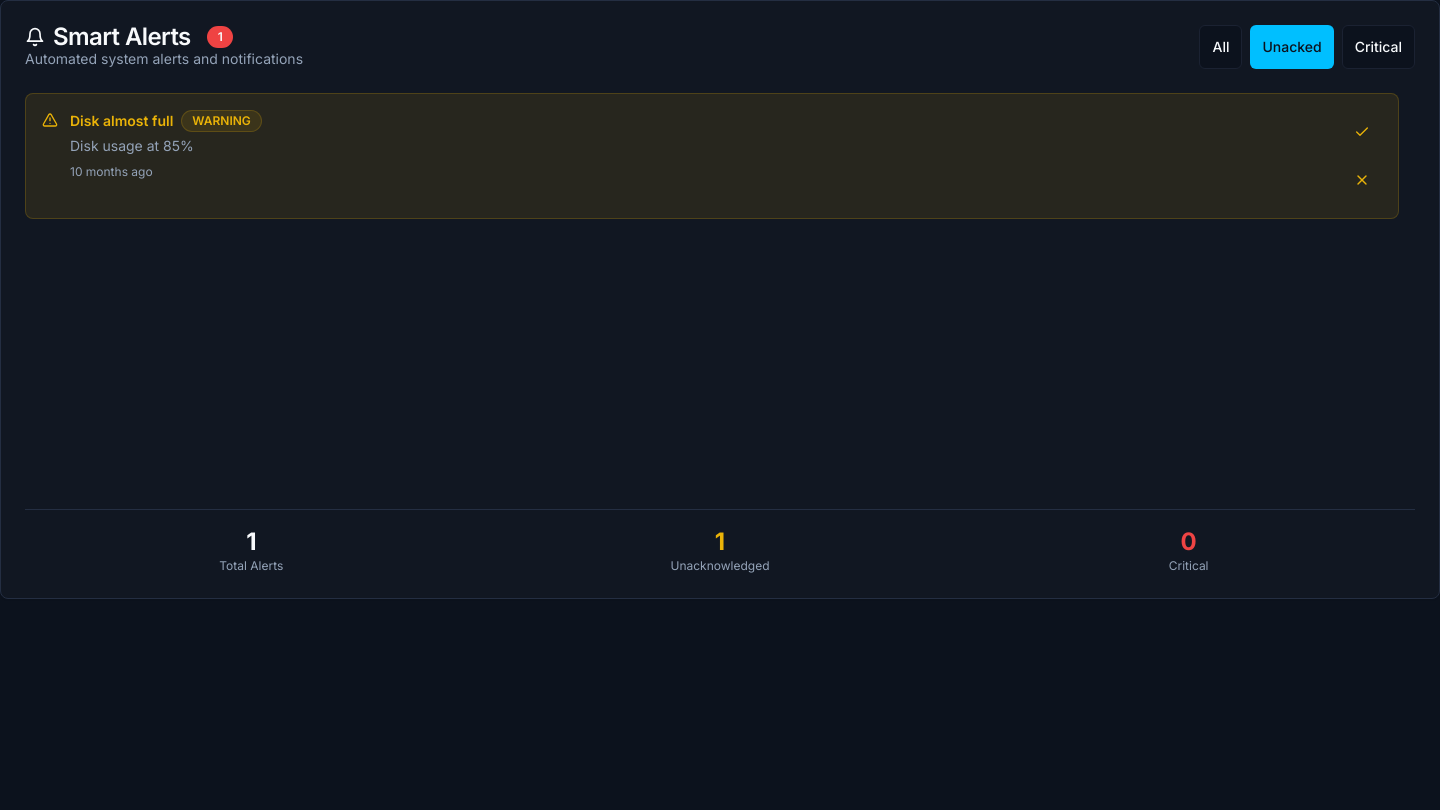
Test: SmartAlerts › dismisses (resolves) an alert
The image size is (1440, 810).
Expected: the text "Disk almost full" is shown, top-left (70, 111), bottom-right (173, 131)
Click the button titled "Resolve" at [1362, 180], box top-left (1342, 158), bottom-right (1382, 202)
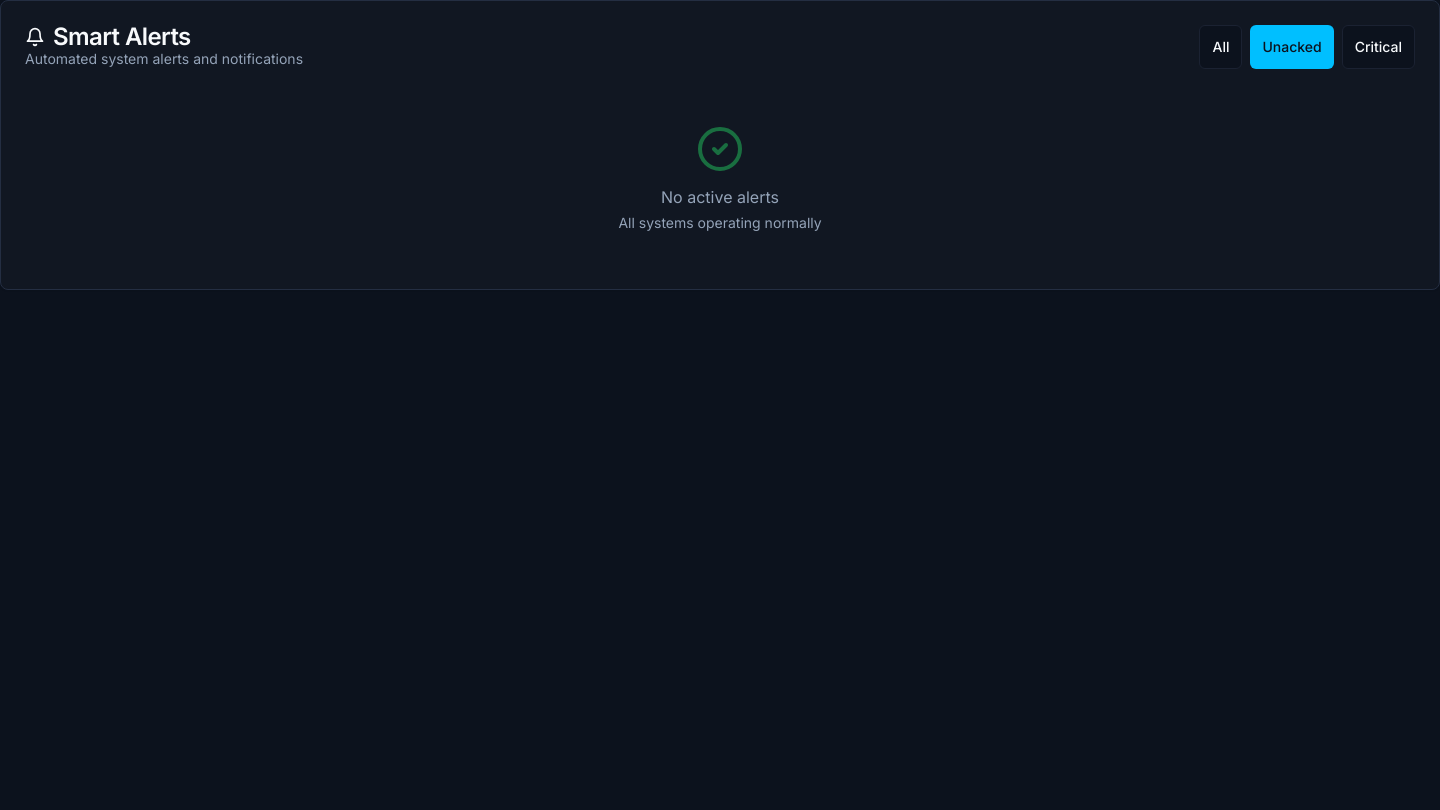
Now the text "Disk almost full" is gone
